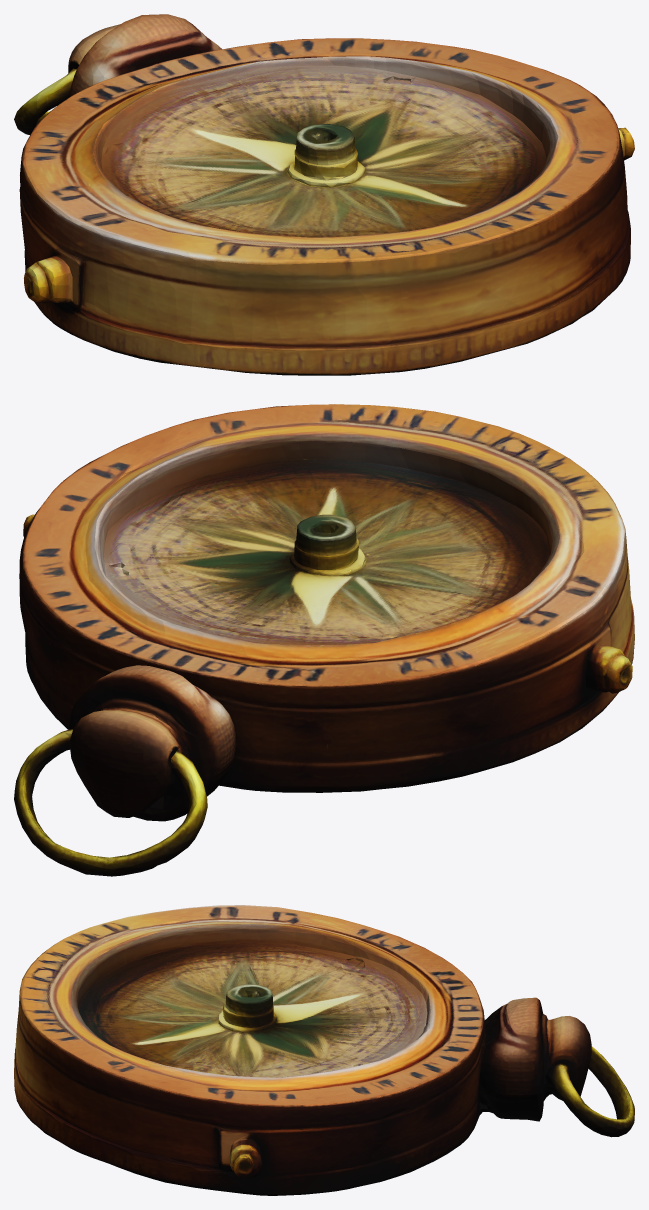
The model's file is wooden-compass-rustic.jpeg.glb.
3 views of the same model, one above another, from view 1: azimuth 30°, elevation 25°; view 2: azimuth 150°, elevation 25°; view 3: azimuth 270°, elevation 25° (orthographic). The views are drawn at different scales.
Visible parts, largest first — view 1: world; view 2: world; view 3: world.
Part boxes in pixels (x1,y1,x2,y2): world: (14,14,634,375); world: (14,404,634,876); world: (14,905,634,1195).
Bounding box in the file's own units: 0.8698 × 0.2358 × 1.
1 material, 1 textured.
